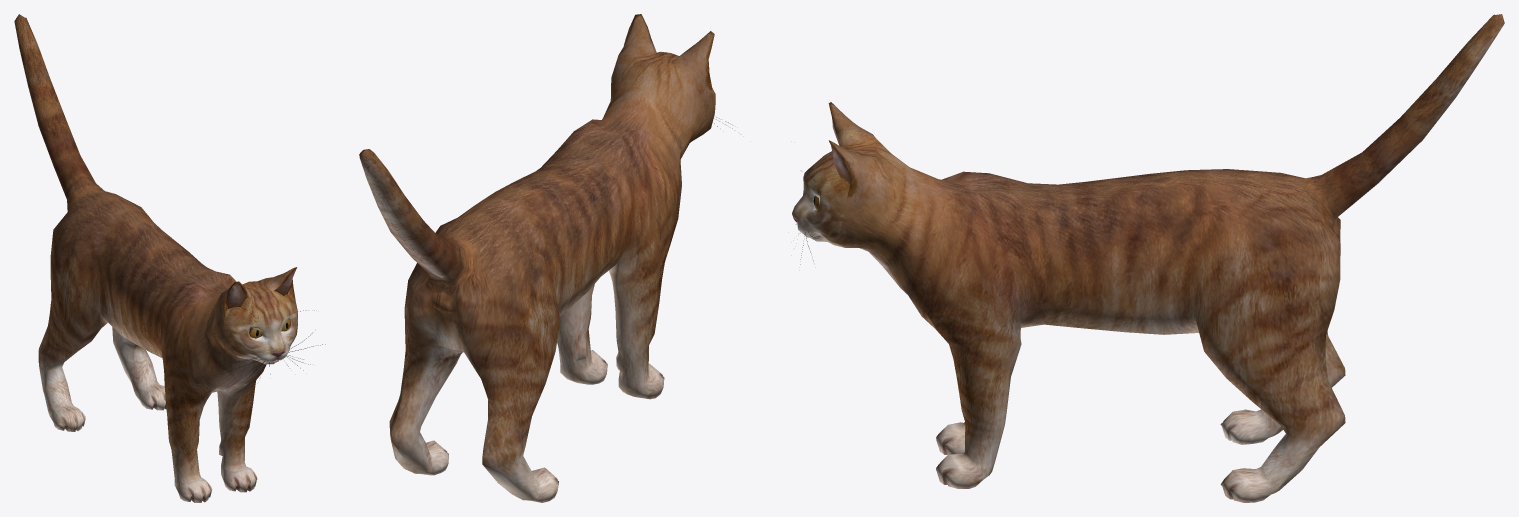
Rendered from cat.obj.
3 views of the same model, side by side, from view 1: azimuth 30°, elevation 25°; view 2: azimuth 150°, elevation 25°; view 3: azimuth 270°, elevation 25° (orthographic). The views are drawn at different scales.
Size of the model in its own units: 0.3394 by 0.9219 by 1.33.
1 material, 1 textured.
